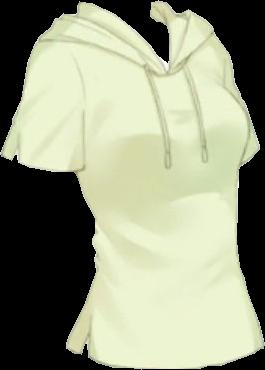Bodice: (34, 0, 263, 368)
Neckline: (83, 1, 172, 64)
Sleeve: (0, 40, 87, 174), (224, 48, 261, 166)
Sleeveline: (36, 38, 89, 95), (223, 47, 227, 89)
Waistline: (64, 342, 264, 369)
